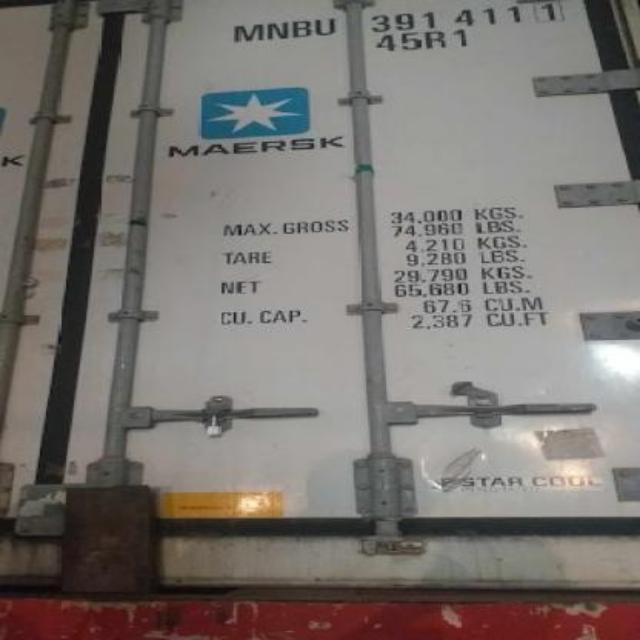1: (534, 2, 574, 26), (478, 3, 504, 29), (421, 2, 442, 32), (506, 4, 528, 26)
3: (366, 8, 392, 36)
4: (452, 1, 478, 30)
9: (392, 5, 416, 32)
B: (292, 13, 316, 43)
M: (232, 20, 266, 46)
N: (266, 18, 290, 40)
U: (312, 13, 338, 42)
